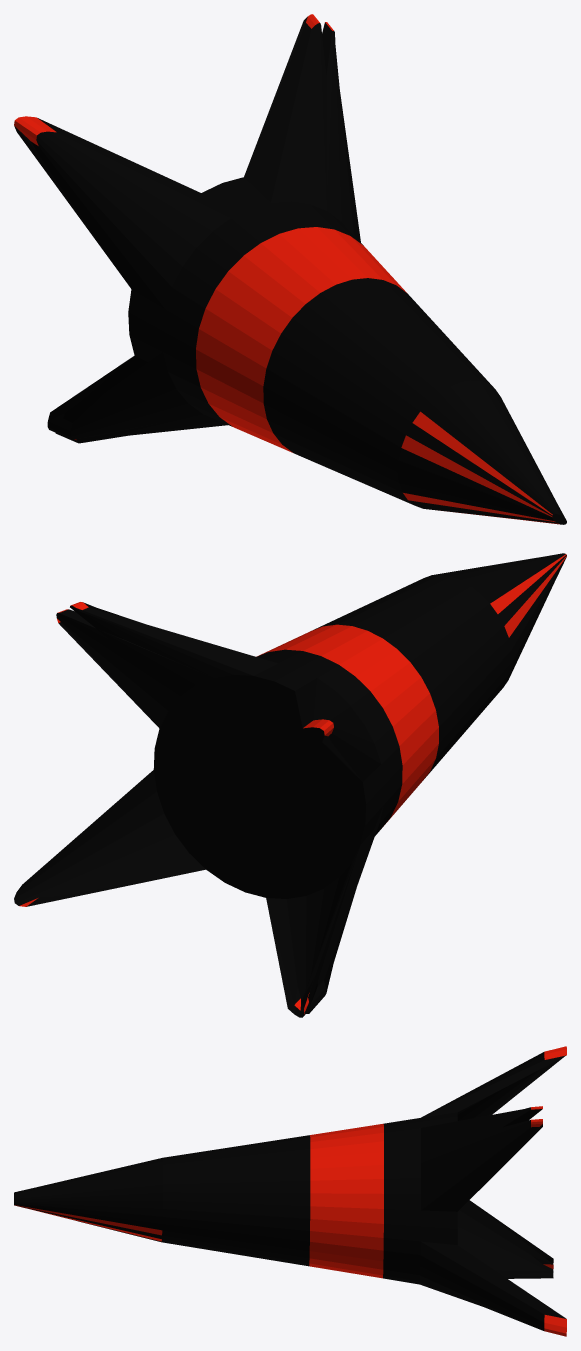
The model's file is Rocket.fbx.
3 views of the same model, one above another, from view 1: azimuth 30°, elevation 25°; view 2: azimuth 150°, elevation 25°; view 3: azimuth 270°, elevation 25° (orthographic). The views are drawn at different scales.
Visible parts, largest first — view 1: Cylinder; view 2: Cylinder; view 3: Cylinder.
Boxes of the visible parts, x1,y1,x2,y2 form: Cylinder: (14, 14, 566, 524); Cylinder: (14, 553, 566, 1017); Cylinder: (14, 1046, 566, 1336).
Bounding box in the file's own units: 106 × 114 × 224.
